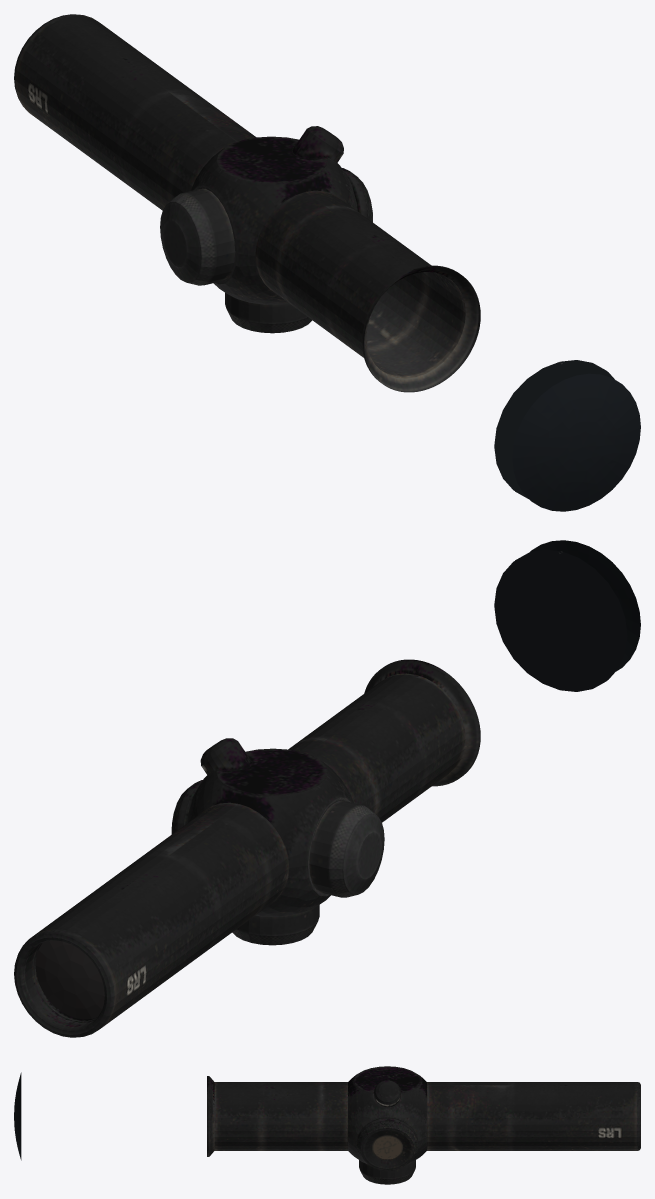
3 views of the same model, one above another, from view 1: azimuth 30°, elevation 25°; view 2: azimuth 150°, elevation 25°; view 3: azimuth 270°, elevation 25° (orthographic). The views are drawn at different scales.
Parts seen in each view (by area): view 1: TW_5b2388675acfc4771e1be0be_PZ_Import; view 2: TW_5b2388675acfc4771e1be0be_PZ_Import; view 3: TW_5b2388675acfc4771e1be0be_PZ_Import.
Part boxes in pixels (x1,y1,x2,y2): TW_5b2388675acfc4771e1be0be_PZ_Import: (14, 14, 640, 511); TW_5b2388675acfc4771e1be0be_PZ_Import: (14, 540, 640, 1037); TW_5b2388675acfc4771e1be0be_PZ_Import: (14, 1066, 640, 1184).
Bounding box in the file's own units: 0.034 × 0.1685 × 0.0325.
1 material, 1 textured.
